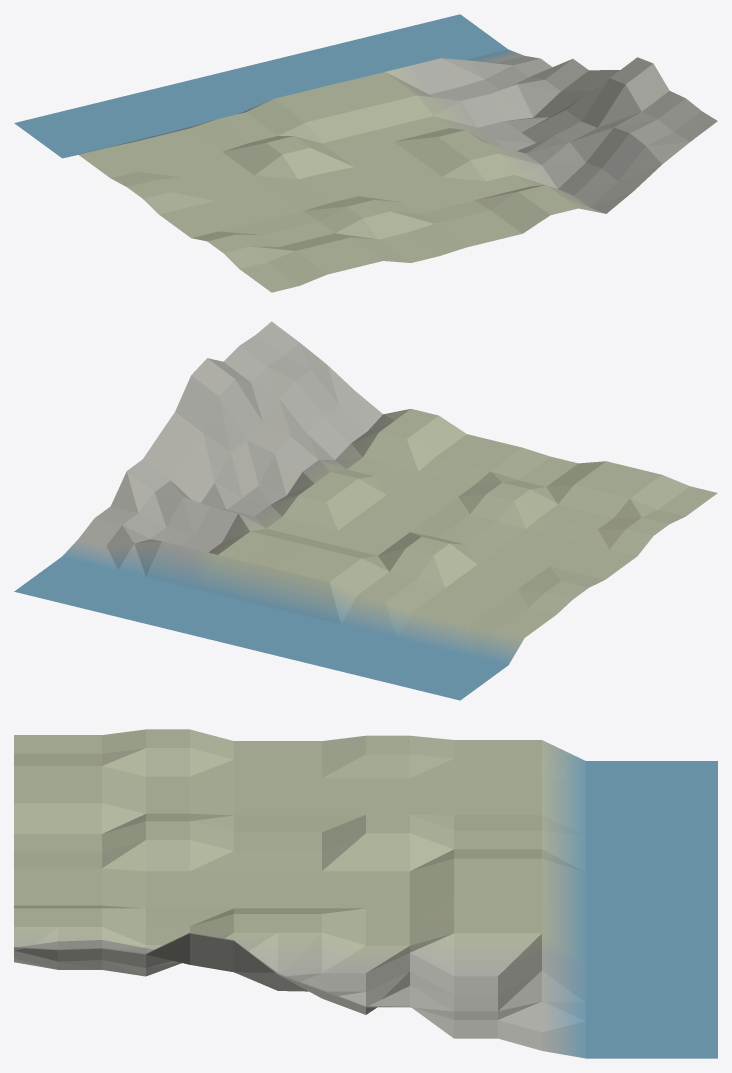
The picture shows the model from 3 angles, top to bottom: view 1: azimuth 30°, elevation 25°; view 2: azimuth 150°, elevation 25°; view 3: azimuth 270°, elevation 25°; orthographic projection. The views are drawn at different scales.
Size of the model in its own units: 32 by 6.32 by 32.
